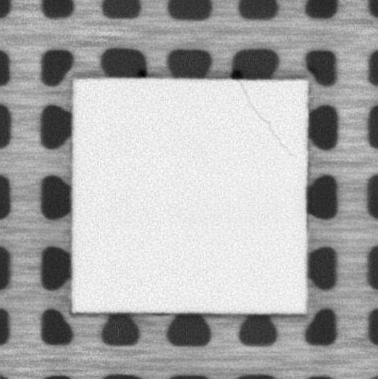DIE_CRACK: (239, 80, 294, 159)
